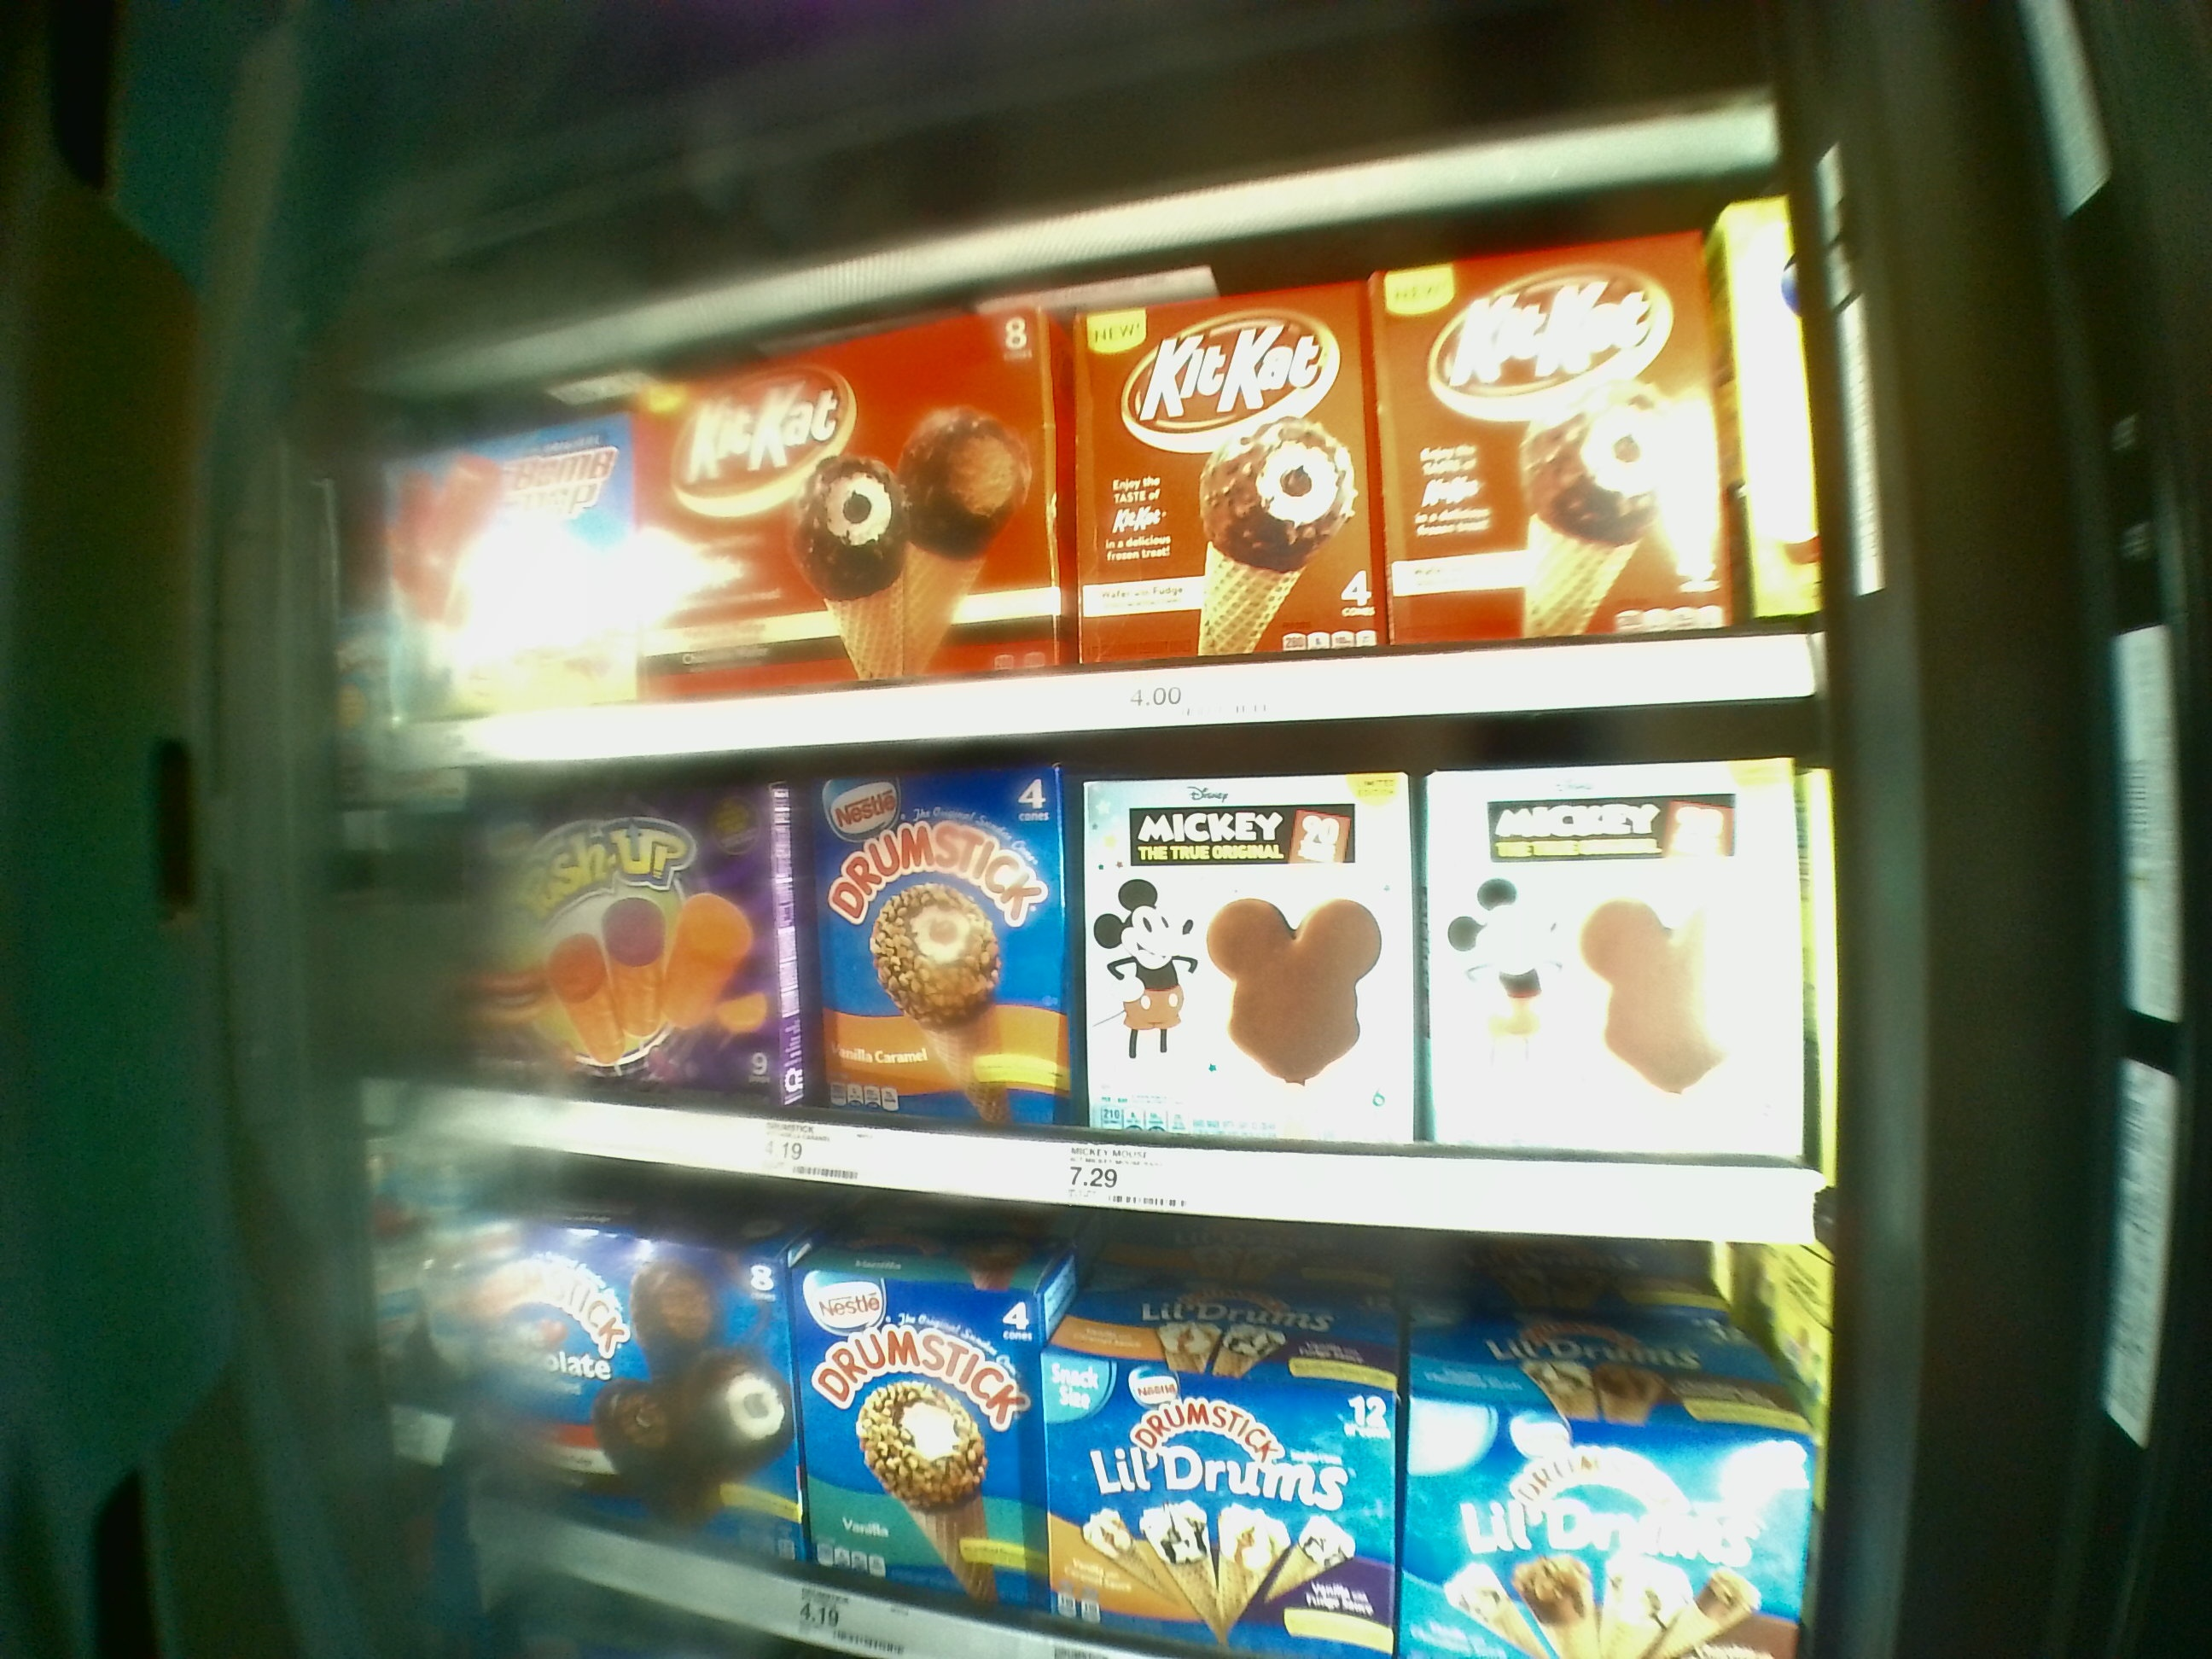shelf: (369, 218, 1820, 728), (435, 1178, 1820, 1659), (413, 735, 1813, 1182)
